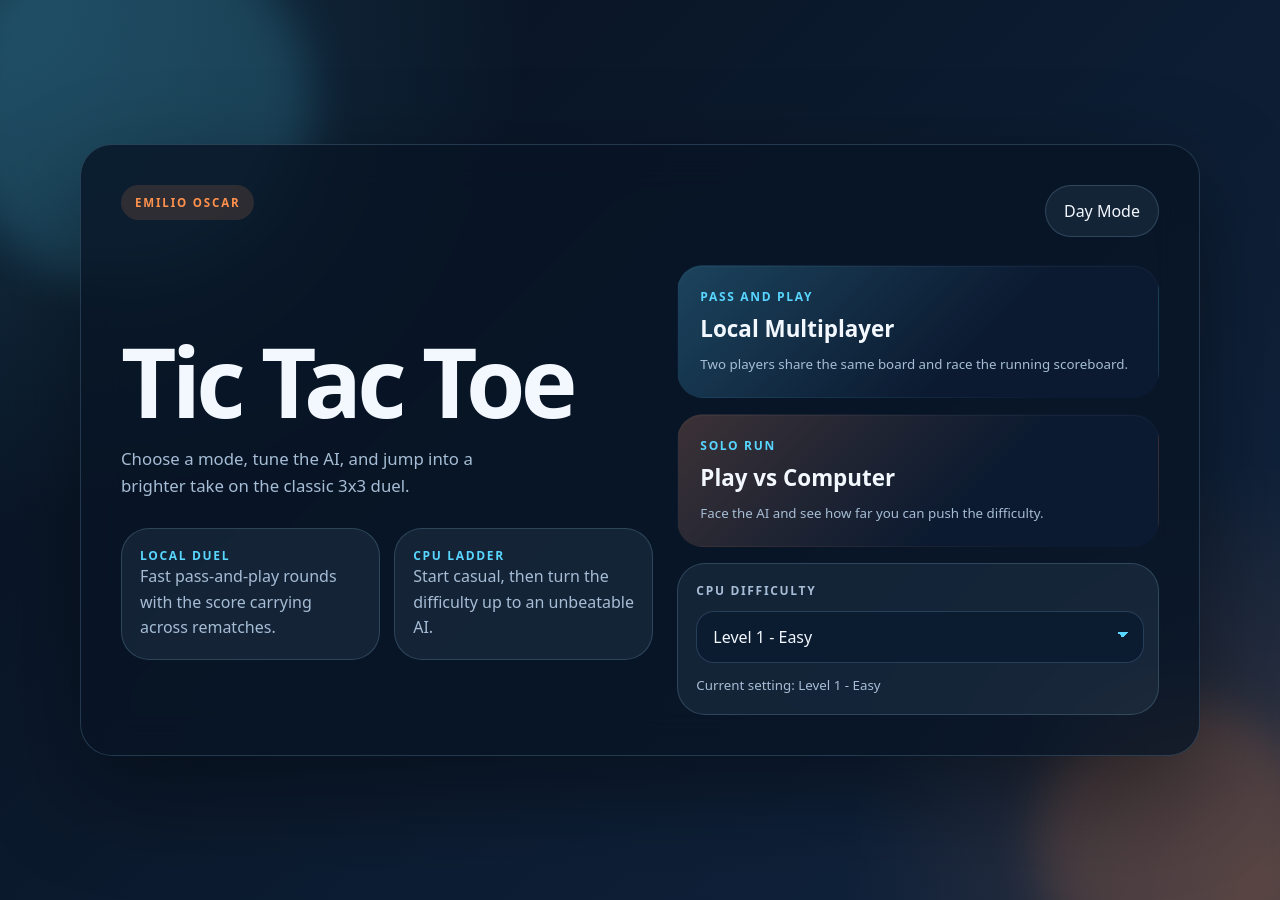
Test: App › Should starts local game when clicking start local
The image size is (1280, 900).
Click the button "Local".
click(757, 296)  # box 677,264 -> 1159,398
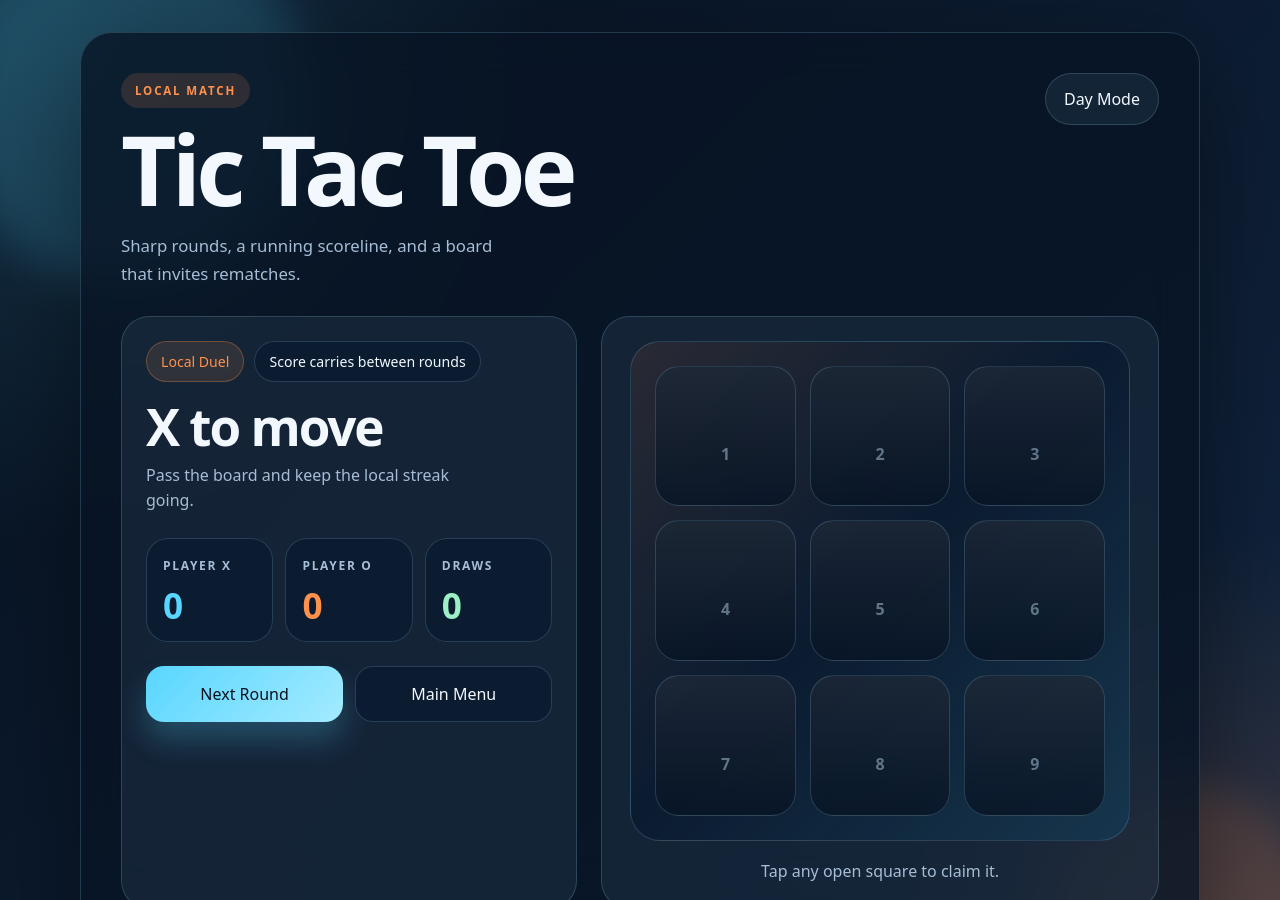
Check: the text "Local Match" is shown, box 121,73 -> 250,108
